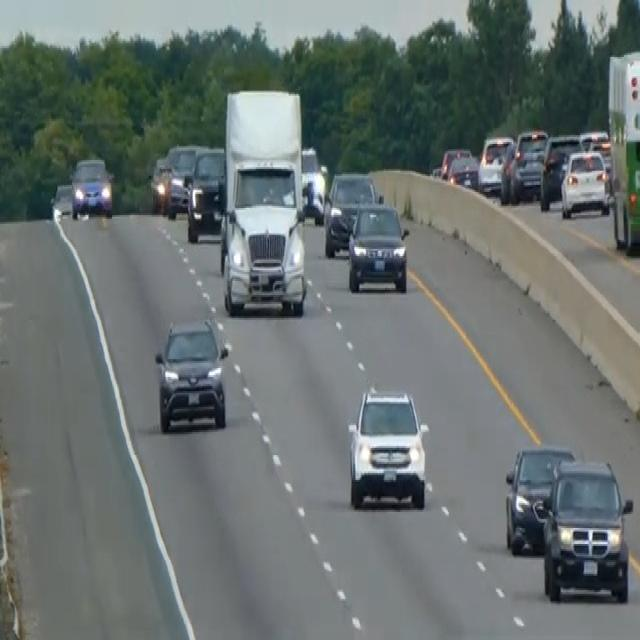bus: (606, 46, 639, 256)
car: (540, 455, 633, 603), (346, 382, 429, 510), (153, 314, 229, 434), (503, 441, 574, 555), (346, 199, 409, 293), (323, 169, 380, 256), (185, 146, 226, 242), (560, 146, 611, 218), (539, 132, 583, 210), (164, 142, 202, 217), (70, 154, 113, 218), (511, 126, 548, 199), (477, 133, 513, 194), (498, 138, 519, 202), (148, 153, 171, 211), (446, 150, 478, 188), (439, 144, 470, 180), (51, 180, 73, 218)
lorry: (217, 86, 308, 316)
